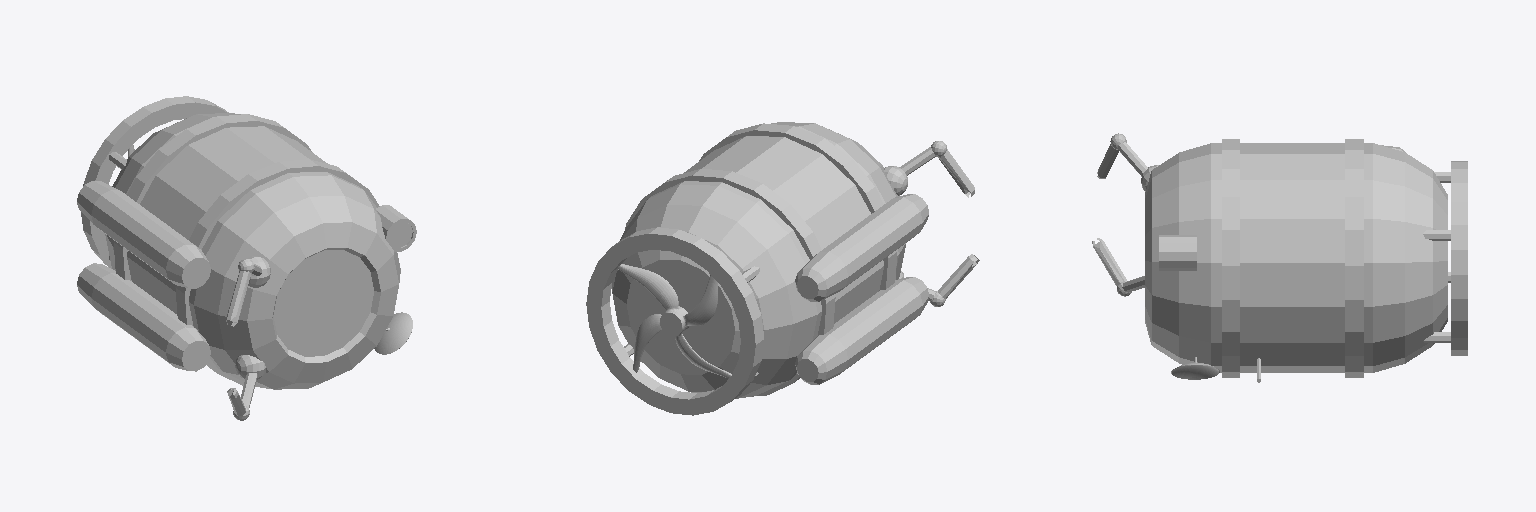
Rendered from Michael(submarine).obj.
The picture shows the model from 3 angles: view 1: azimuth 30°, elevation 25°; view 2: azimuth 150°, elevation 25°; view 3: azimuth 270°, elevation 25°; orthographic projection.
Visible parts, largest first — view 1: Sphere, CabinWindow, lander2, lander, Propeller, detailRing2, detailRing, headlamp, sateliteDish, Cylinder.003, arm2; view 2: Sphere, Propeller, lander2, lander, fan, detailRing, detailRing2, Cylinder.003, Cylinder.005; view 3: Sphere, detailRing, detailRing2, Propeller, headlamp, sateliteDish, Cylinder.005.
Boxes of the visible parts, x1,y1,x2,y2 form: Sphere: [105, 113, 400, 389]; CabinWindow: [273, 250, 373, 356]; lander2: [77, 181, 210, 288]; lander: [77, 263, 210, 371]; Propeller: [81, 96, 228, 268]; detailRing2: [175, 159, 379, 385]; detailRing: [114, 114, 311, 280]; headlamp: [376, 205, 416, 251]; sateliteDish: [374, 312, 412, 354]; Cylinder.003: [226, 271, 250, 326]; arm2: [235, 355, 265, 379]; Sphere: [612, 122, 905, 398]; Propeller: [586, 227, 763, 415]; lander2: [795, 194, 928, 301]; lander: [795, 277, 928, 384]; fan: [617, 264, 731, 378]; detailRing: [625, 169, 835, 396]; detailRing2: [699, 123, 897, 290]; Cylinder.003: [938, 149, 974, 197]; Cylinder.005: [938, 254, 979, 298]; Sphere: [1145, 143, 1447, 372]; detailRing: [1345, 139, 1363, 377]; detailRing2: [1222, 139, 1239, 377]; Propeller: [1451, 161, 1467, 355]; headlamp: [1159, 235, 1196, 270]; sateliteDish: [1171, 363, 1219, 379]; Cylinder.005: [1092, 238, 1126, 285].
Size of the model in its own units: 2.44 by 2.05 by 3.23.